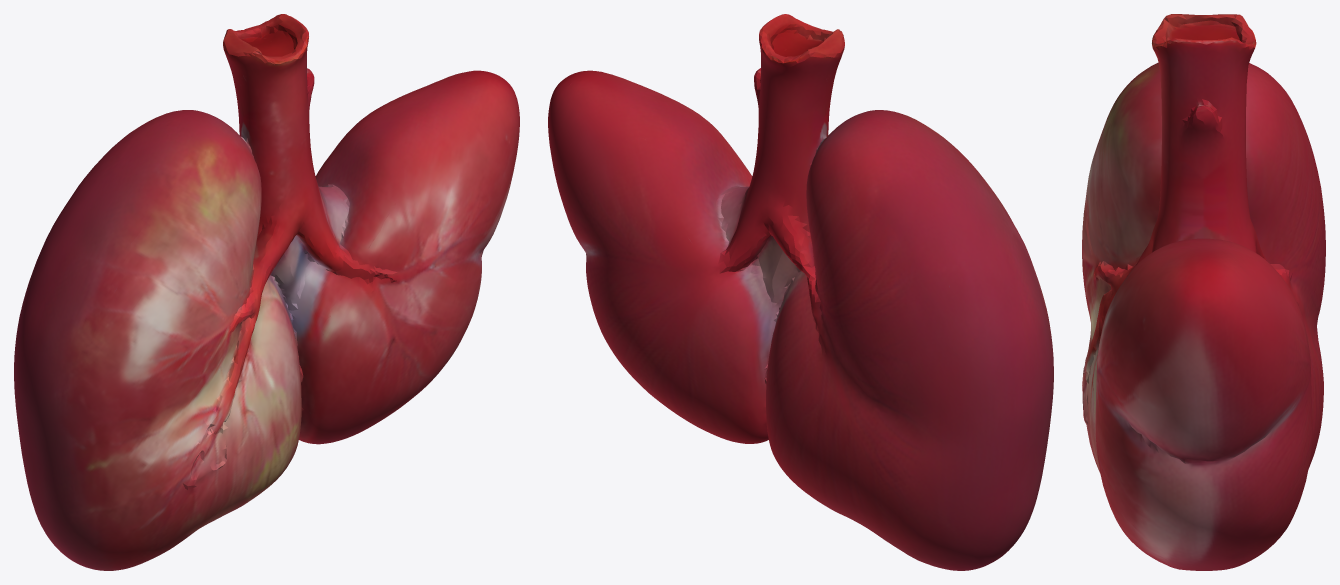
Rendered from dog_liver.glb.
3 views of the same model, side by side, from view 1: azimuth 30°, elevation 25°; view 2: azimuth 150°, elevation 25°; view 3: azimuth 270°, elevation 25° (orthographic). The views are drawn at different scales.
Visible parts, largest first — view 1: model; view 2: model; view 3: model.
Part boxes in pixels (box(x1,y1,x2,y2)): model: box(14, 14, 519, 570); model: box(548, 14, 1053, 570); model: box(1082, 14, 1325, 570).
Size of the model in its own units: 1.9 by 1.85 by 0.6834.
1 material, 1 textured.
